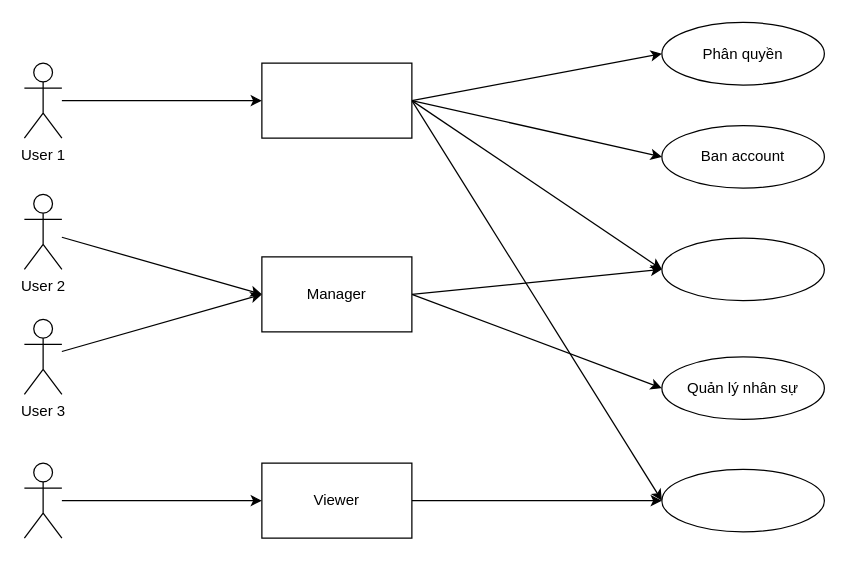
Image size: 846x585. Some labels were removed from this diagram. Each missing label, with the centre of its shape:
"Super Admin" goes at (x=336, y=100).
"Thông tin công khai" goes at (x=742, y=500).
"Thông tin nội bộ" goes at (x=742, y=269).
"User 4" goes at (x=42, y=500).
